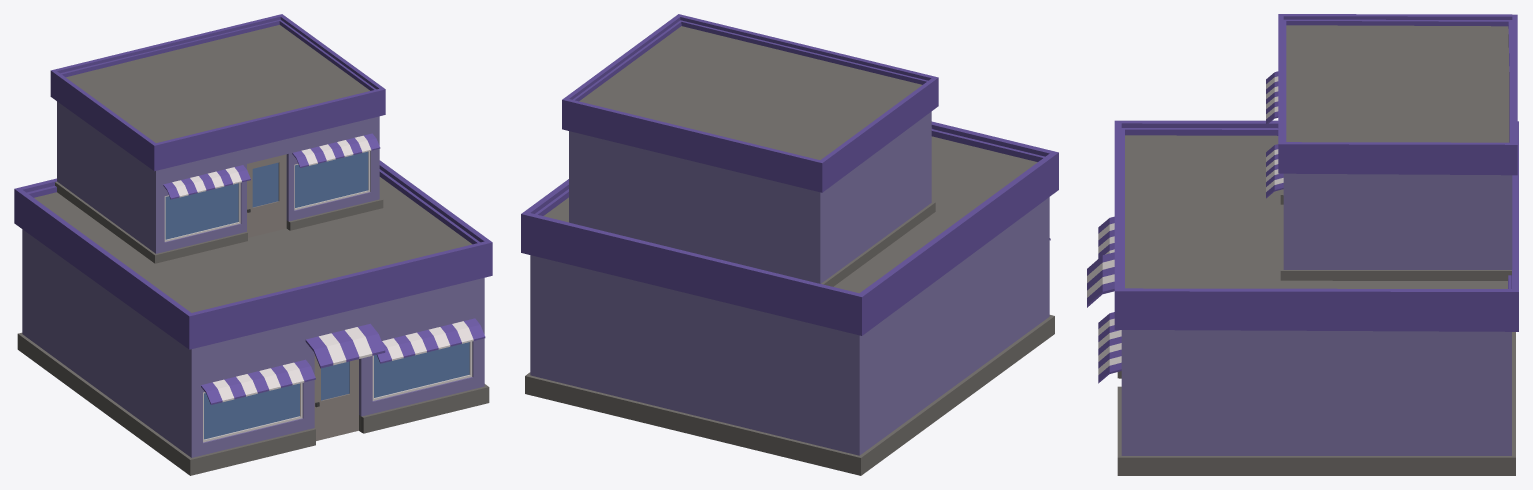
The model's file is House_19.fbx.
3 renders of one model, left to right at view 1: azimuth 30°, elevation 25°; view 2: azimuth 150°, elevation 25°; view 3: azimuth 270°, elevation 25°, orthographic. The views are drawn at different scales.
Visible parts, largest first — view 1: House_19; view 2: House_19; view 3: House_19.
Part boxes in pixels (x1,y1,x2,y2): House_19: (14, 14, 492, 475); House_19: (521, 14, 1058, 475); House_19: (1087, 14, 1518, 475).
Bounding box in the file's own units: 14.11 × 12.04 × 15.07.
